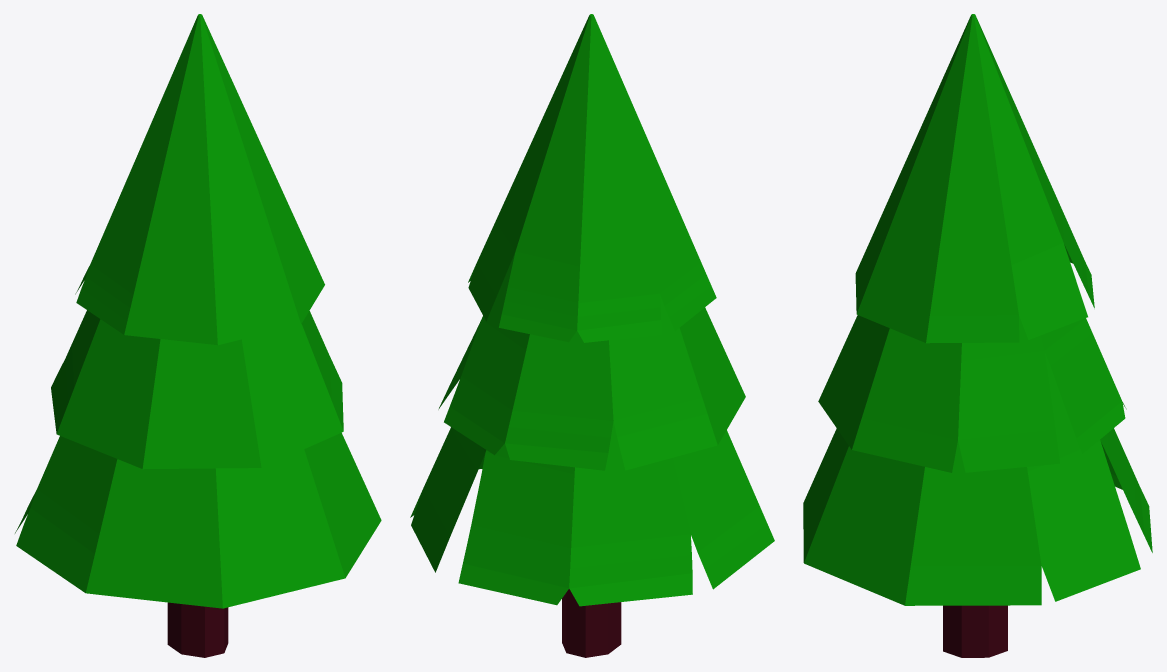
File: f_tree_01.fbx
3 views of the same model, side by side, from view 1: azimuth 30°, elevation 25°; view 2: azimuth 150°, elevation 25°; view 3: azimuth 270°, elevation 25° (orthographic).
Visible parts, largest first — view 1: Circle.008; view 2: Circle.008; view 3: Circle.008.
Part boxes in pixels (bbox=[...]): Circle.008: bbox=[15, 14, 381, 657]; Circle.008: bbox=[410, 14, 774, 657]; Circle.008: bbox=[803, 14, 1152, 657].
Bounding box in the file's own units: 88.74 × 177 × 88.91.
